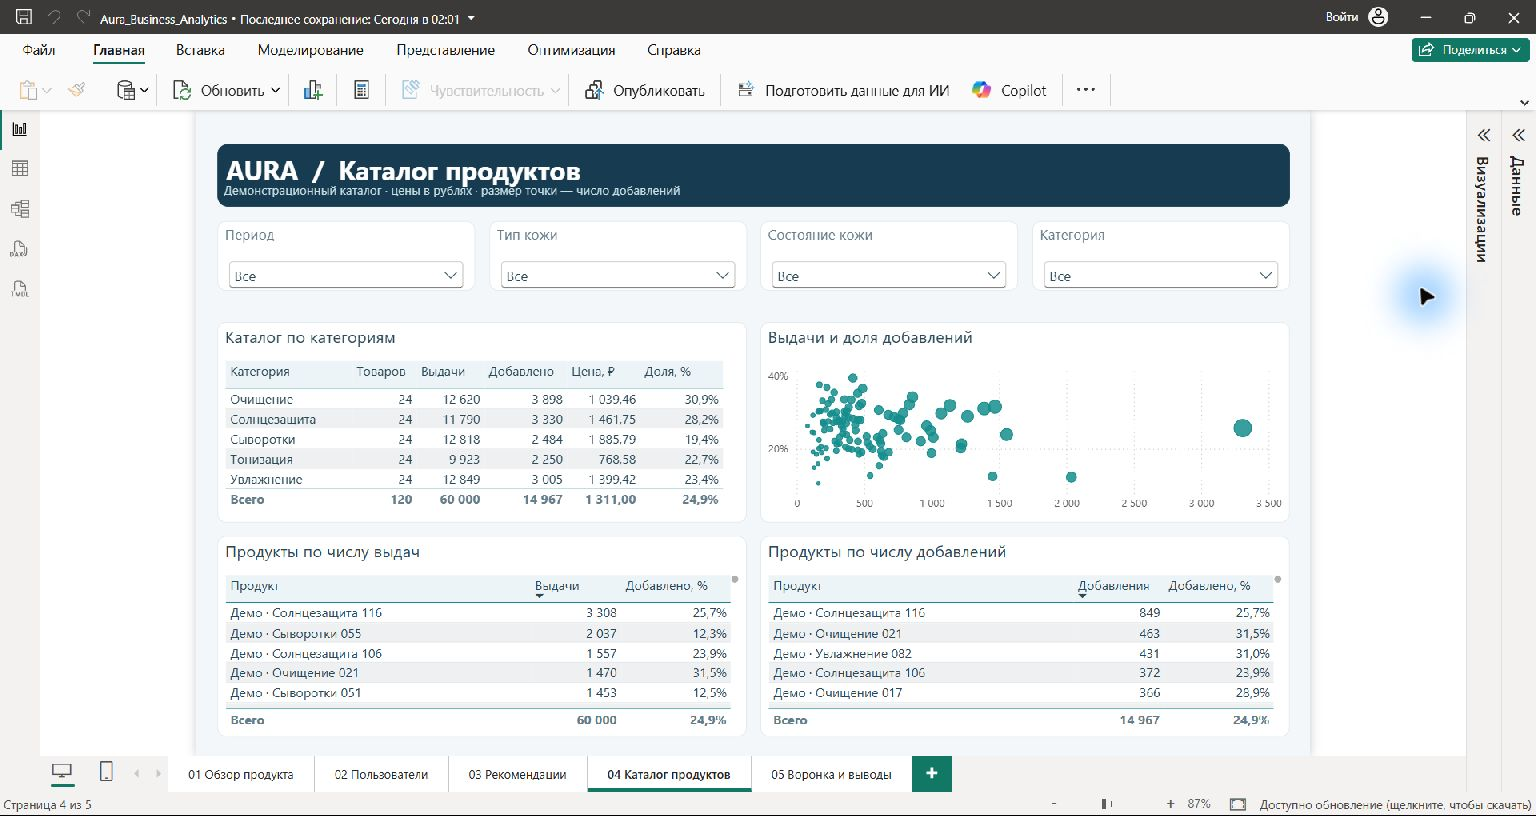

The dashboard page shown, as its layout file describes it:
{"tool":"powerbi","page":{"name":"04 Каталог продуктов","canvas":[1280,720],"ordinal":3},"visuals":[{"type":"textbox","box":[24,16,1232,72],"z":0},{"type":"slicer","title":"Период","fields":{"Values":["Date.Месяц"]},"box":[24,104,296,80],"z":37},{"type":"slicer","title":"Тип кожи","fields":{"Values":["Users.skin_type"]},"box":[336,104,296,80],"z":38},{"type":"slicer","title":"Состояние кожи","fields":{"Values":["Users.skin_state"]},"box":[648,104,296,80],"z":39},{"type":"slicer","title":"Категория","fields":{"Values":["Products.Категория"]},"box":[960,104,296,80],"z":40},{"type":"tableEx","title":"Каталог по категориям","fields":{"Values":["Products.Категория","Users.Catalog Products","Users.Total Recommendations","Users.Accepted Recommendations","Users.Average Price","Users.Recommendation Acceptance Rate"]},"box":[24,220,608,230],"z":41},{"type":"scatterChart","title":"Выдачи и доля добавлений","fields":{"Category":["Products.Продукт"],"Size":["Users.Accepted Recommendations"],"X":["Users.Total Recommendations"],"Y":["Users.Recommendation Acceptance Rate"]},"box":[648,220,608,230],"z":42},{"type":"tableEx","title":"Продукты по числу выдач","fields":{"Values":["Products.Продукт","Users.Total Recommendations","Users.Recommendation Acceptance Rate"]},"box":[24,466,608,230],"z":43},{"type":"tableEx","title":"Продукты по числу добавлений","fields":{"Values":["Products.Продукт","Users.Accepted Recommendations","Users.Recommendation Acceptance Rate"]},"box":[648,466,608,230],"z":44},{"type":"textbox","box":[26,52,1224,34],"z":100}]}

Visuals, with their boxes on the page's 1280x720 design canvas (x1, y1, x2, y2). These are canvas units, not pixel positions in the 1536x816 screenshot, which may show the page scaled, cropped or inside an application window:
textbox: 24:16:1256:88
"Период" slicer: 24:104:320:184
"Тип кожи" slicer: 336:104:632:184
"Состояние кожи" slicer: 648:104:944:184
"Категория" slicer: 960:104:1256:184
"Каталог по категориям" tableEx: 24:220:632:450
"Выдачи и доля добавлений" scatterChart: 648:220:1256:450
"Продукты по числу выдач" tableEx: 24:466:632:696
"Продукты по числу добавлений" tableEx: 648:466:1256:696
textbox: 26:52:1250:86
